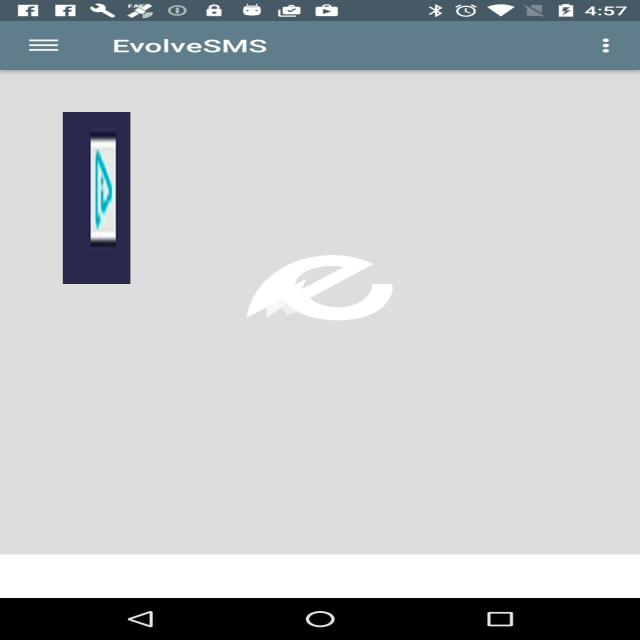sneaking: (63, 112, 130, 284)
